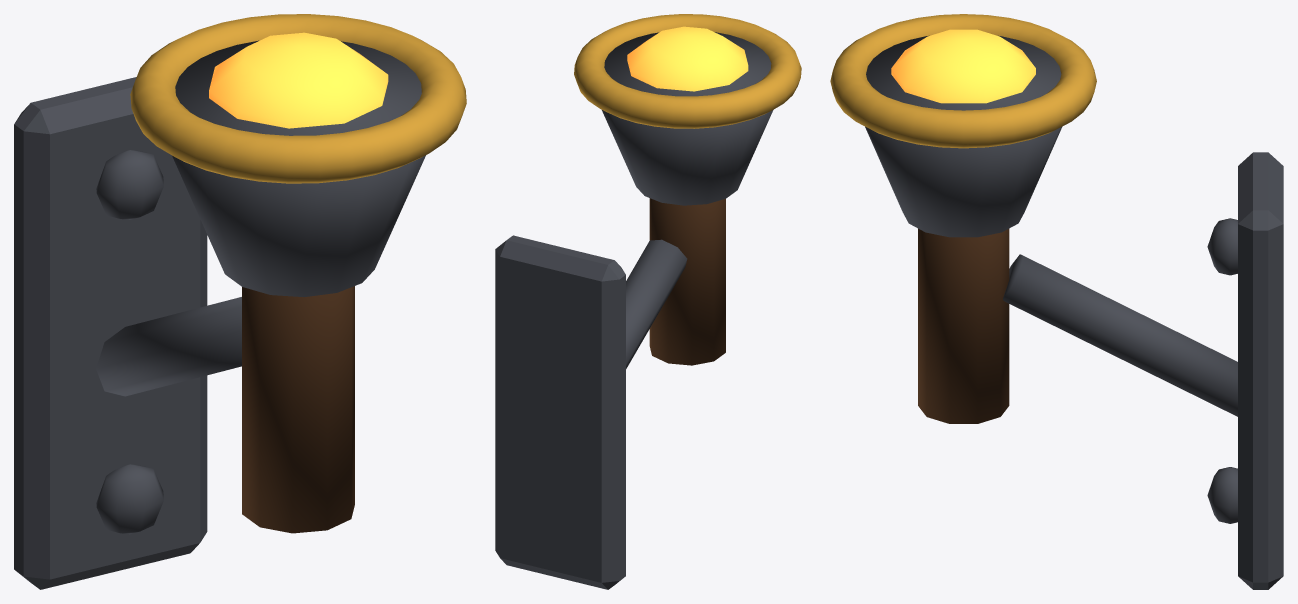
The model's file is tocha.glb.
3 renders of one model, left to right at view 1: azimuth 30°, elevation 25°; view 2: azimuth 150°, elevation 25°; view 3: azimuth 270°, elevation 25°, orthographic. The views are drawn at different scales.
Parts seen in each view (by area): view 1: tocha; view 2: tocha; view 3: tocha.
Boxes of the visible parts, bbox=[...] form: tocha: bbox=[14, 14, 466, 589]; tocha: bbox=[495, 14, 801, 589]; tocha: bbox=[830, 14, 1283, 589].
Size of the model in its own units: 0.35 by 0.755 by 0.595.
